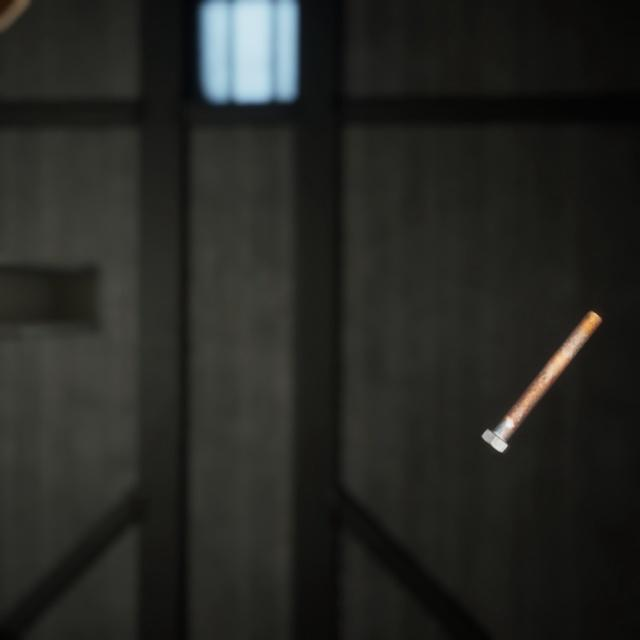bolt: (476, 287, 606, 439)
